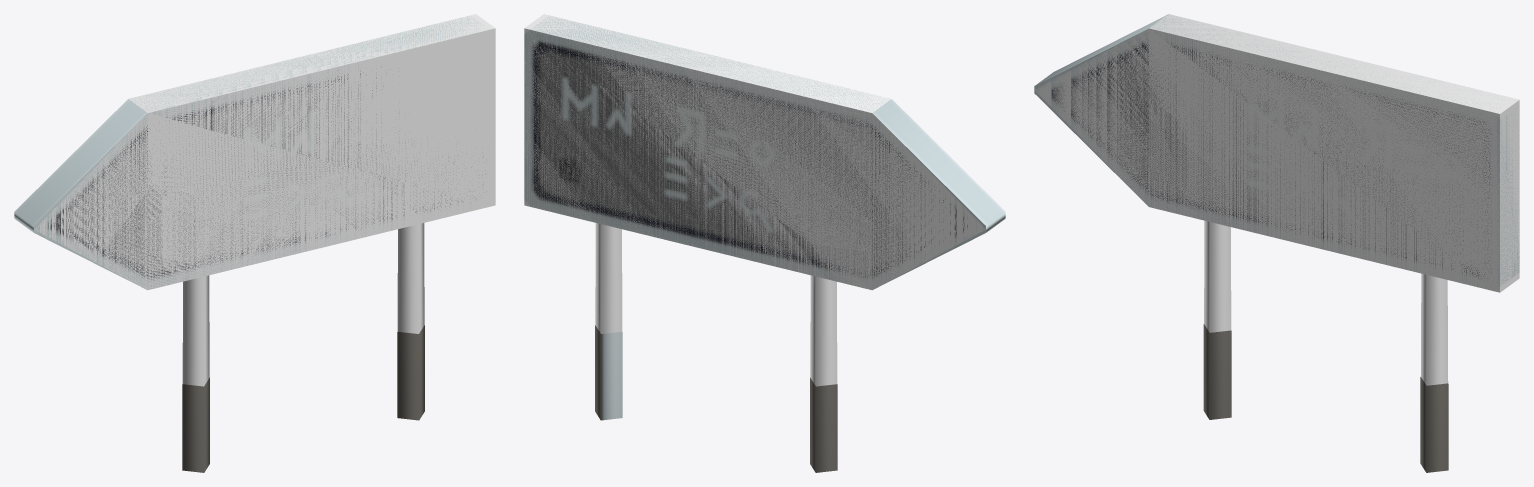
File: objects_un_guideboard01.gltf
3 renders of one model, left to right at view 1: azimuth 30°, elevation 25°; view 2: azimuth 150°, elevation 25°; view 3: azimuth 330°, elevation 25°, orthographic.
Parts seen in each view (by area): view 1: um_objects_un_guideboard01_model_lod0Shape:objects_un_guideb (×2); view 2: um_objects_un_guideboard01_model_lod0Shape:objects_un_guideb (×2); view 3: um_objects_un_guideboard01_model_lod0Shape:objects_un_guideb (×2).
Part boxes in pixels (x1,y1,x2,y2): um_objects_un_guideboard01_model_lod0Shape:objects_un_guideb (×2): (14,14,495,472); um_objects_un_guideboard01_model_lod0Shape:objects_un_guideb (×2): (524,14,1005,472); um_objects_un_guideboard01_model_lod0Shape:objects_un_guideb (×2): (1034,14,1519,472).
Size of the model in its own units: 2.58 by 2 by 0.189.
Materials: 2 (1 with a texture image).
